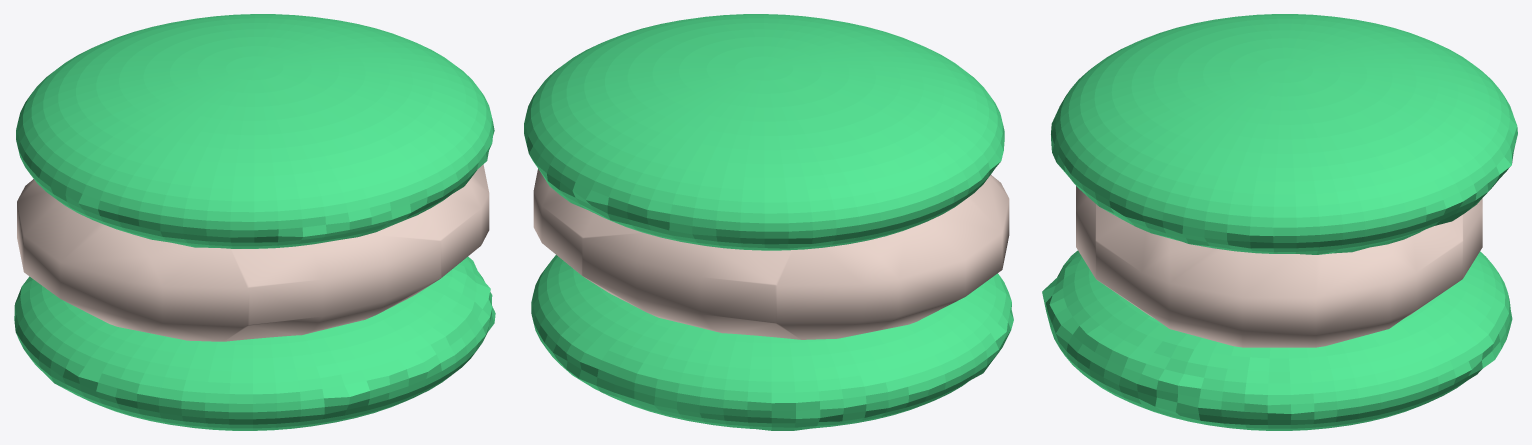
File: macronGreen.fbx
The picture shows the model from 3 angles, left to right: view 1: azimuth 30°, elevation 25°; view 2: azimuth 150°, elevation 25°; view 3: azimuth 270°, elevation 25°; orthographic projection.
Visible parts, largest first — view 1: Sphere.001, Sphere, Mball; view 2: Sphere.001, Sphere, Mball; view 3: Sphere.001, Sphere, Mball.
Part boxes in pixels (x1,y1,x2,y2): Sphere.001: [16, 14, 494, 248]; Sphere: [14, 256, 495, 430]; Mball: [17, 164, 489, 341]; Sphere.001: [524, 14, 1004, 250]; Sphere: [531, 255, 1013, 430]; Mball: [533, 168, 1009, 339]; Sphere.001: [1051, 14, 1517, 254]; Sphere: [1042, 250, 1512, 430]; Mball: [1076, 186, 1482, 347].
Bounding box in the file's own units: 5.29 × 3.65 × 5.14.
